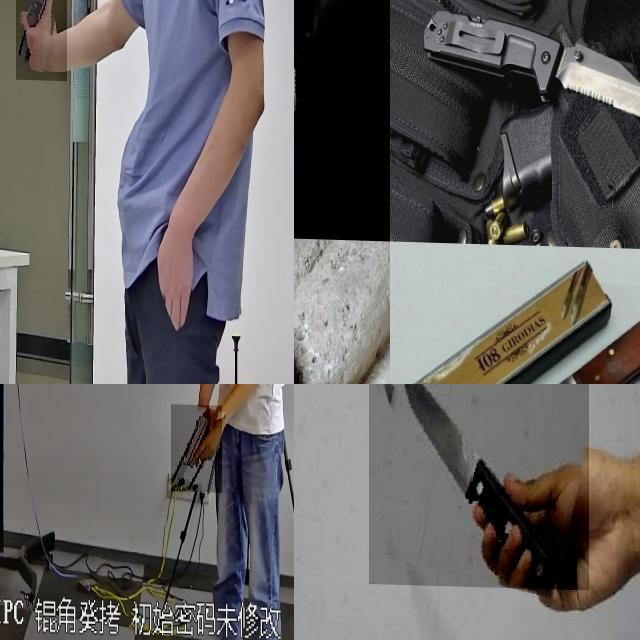-: (369, 384, 589, 587), (294, 0, 414, 232), (395, 288, 640, 384), (294, 238, 365, 384), (550, 31, 640, 125)
gun-knife-thesis - v11 Yolov5 augmented: (171, 403, 222, 491), (16, 0, 66, 79)
